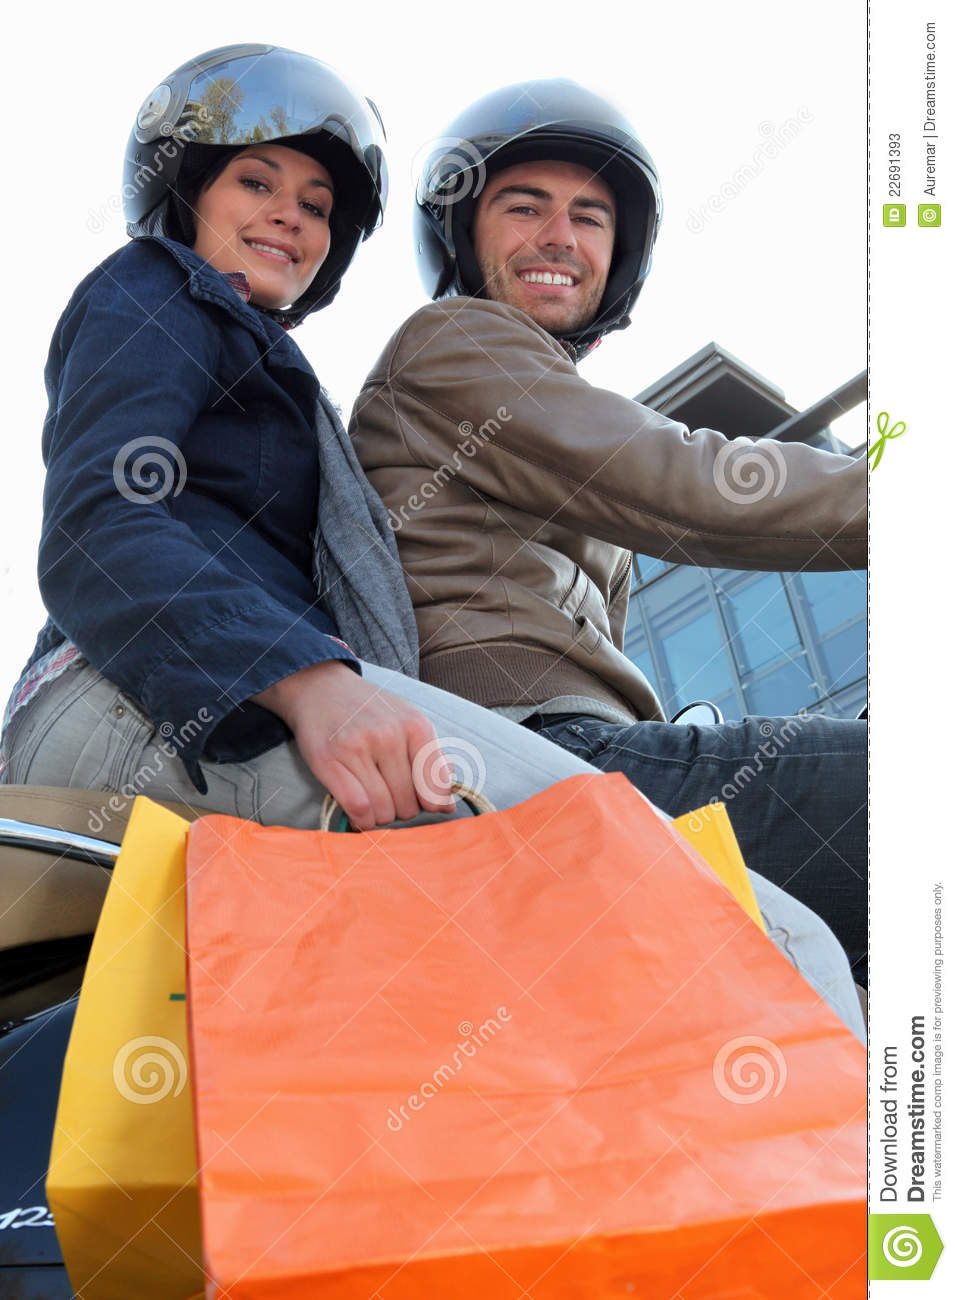helmet: (134, 47, 400, 281), (416, 95, 654, 305)
